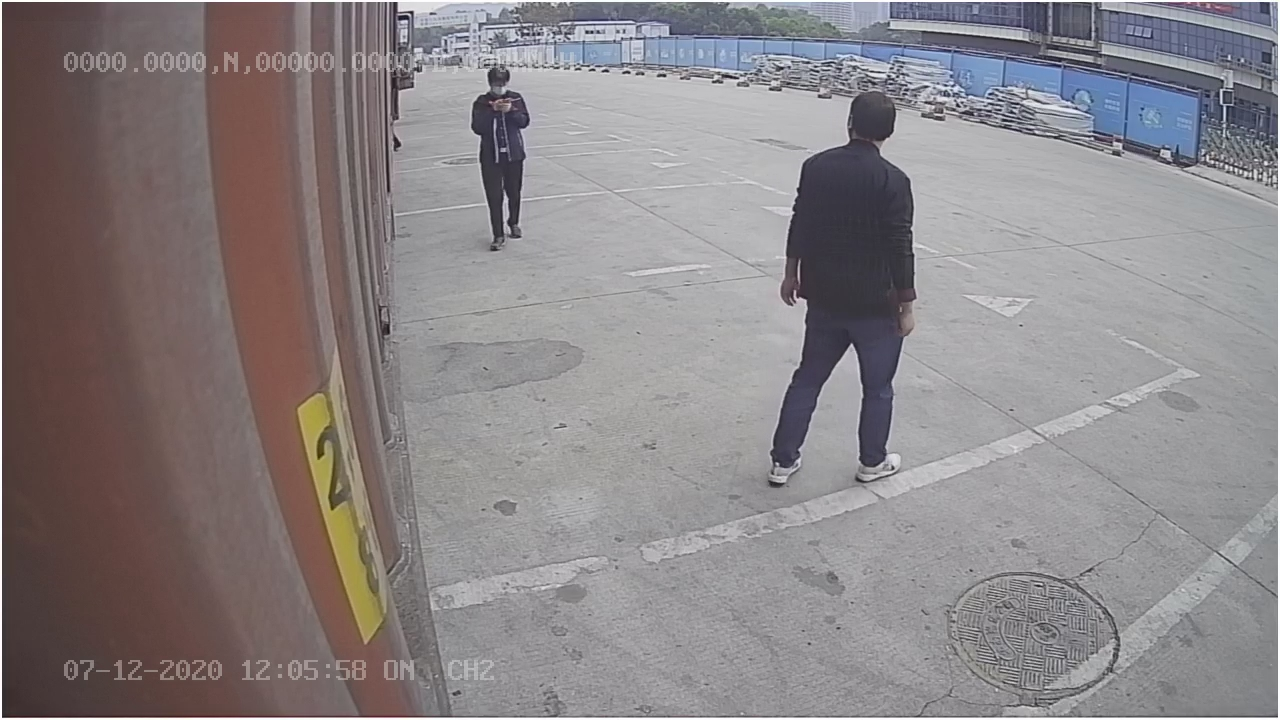person: (766, 89, 922, 487)
